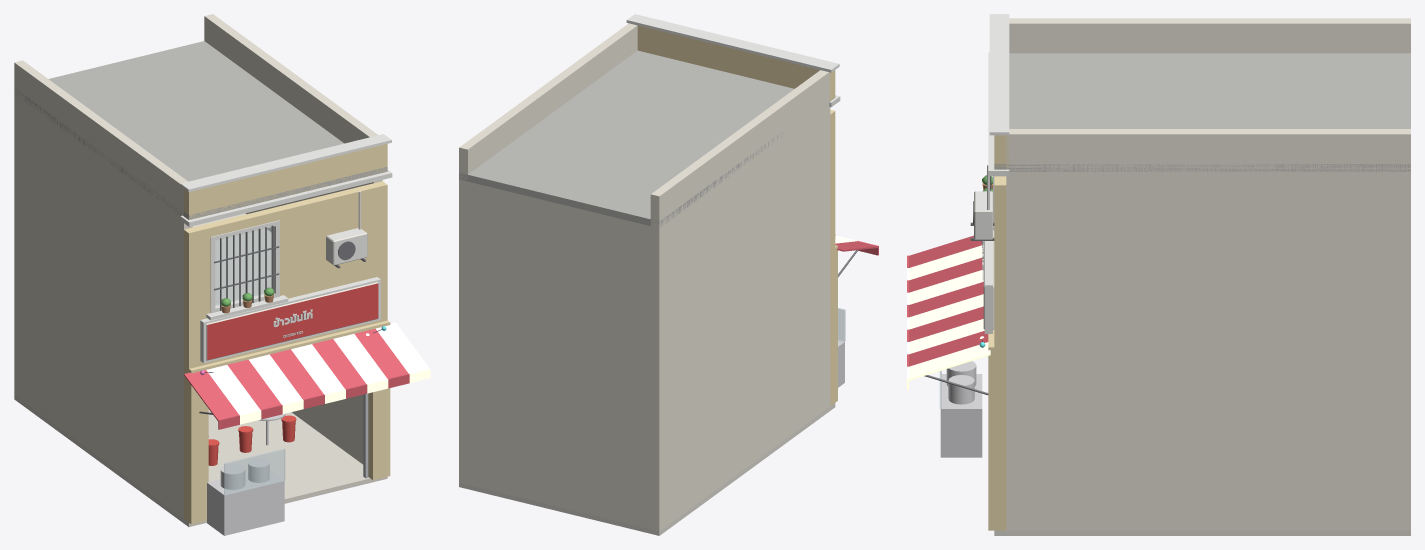
Rendered from SM_Shop_ChickenRice.fbx.
3 renders of one model, left to right at view 1: azimuth 30°, elevation 25°; view 2: azimuth 150°, elevation 25°; view 3: azimuth 270°, elevation 25°, orthographic. The views are drawn at different scales.
Visible parts, largest first — view 1: SM_Shop_ChickenRice; view 2: SM_Shop_ChickenRice; view 3: SM_Shop_ChickenRice.
Boxes of the visible parts, x1=… form: SM_Shop_ChickenRice: x1=14, y1=14, x2=430, y2=535; SM_Shop_ChickenRice: x1=459, y1=14, x2=878, y2=535; SM_Shop_ChickenRice: x1=907, y1=14, x2=1410, y2=535.
Bounding box in the file's own units: 4.9 × 7.51 × 8.47.
